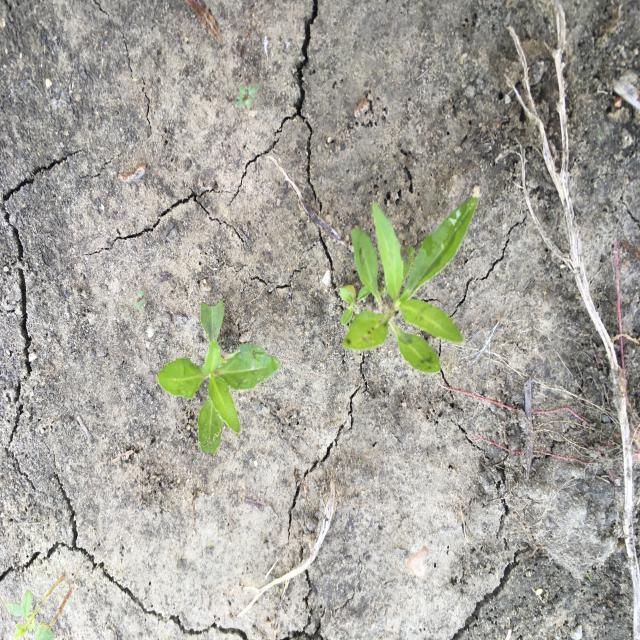Eclipta: (337, 195, 480, 375), (156, 298, 282, 459)
